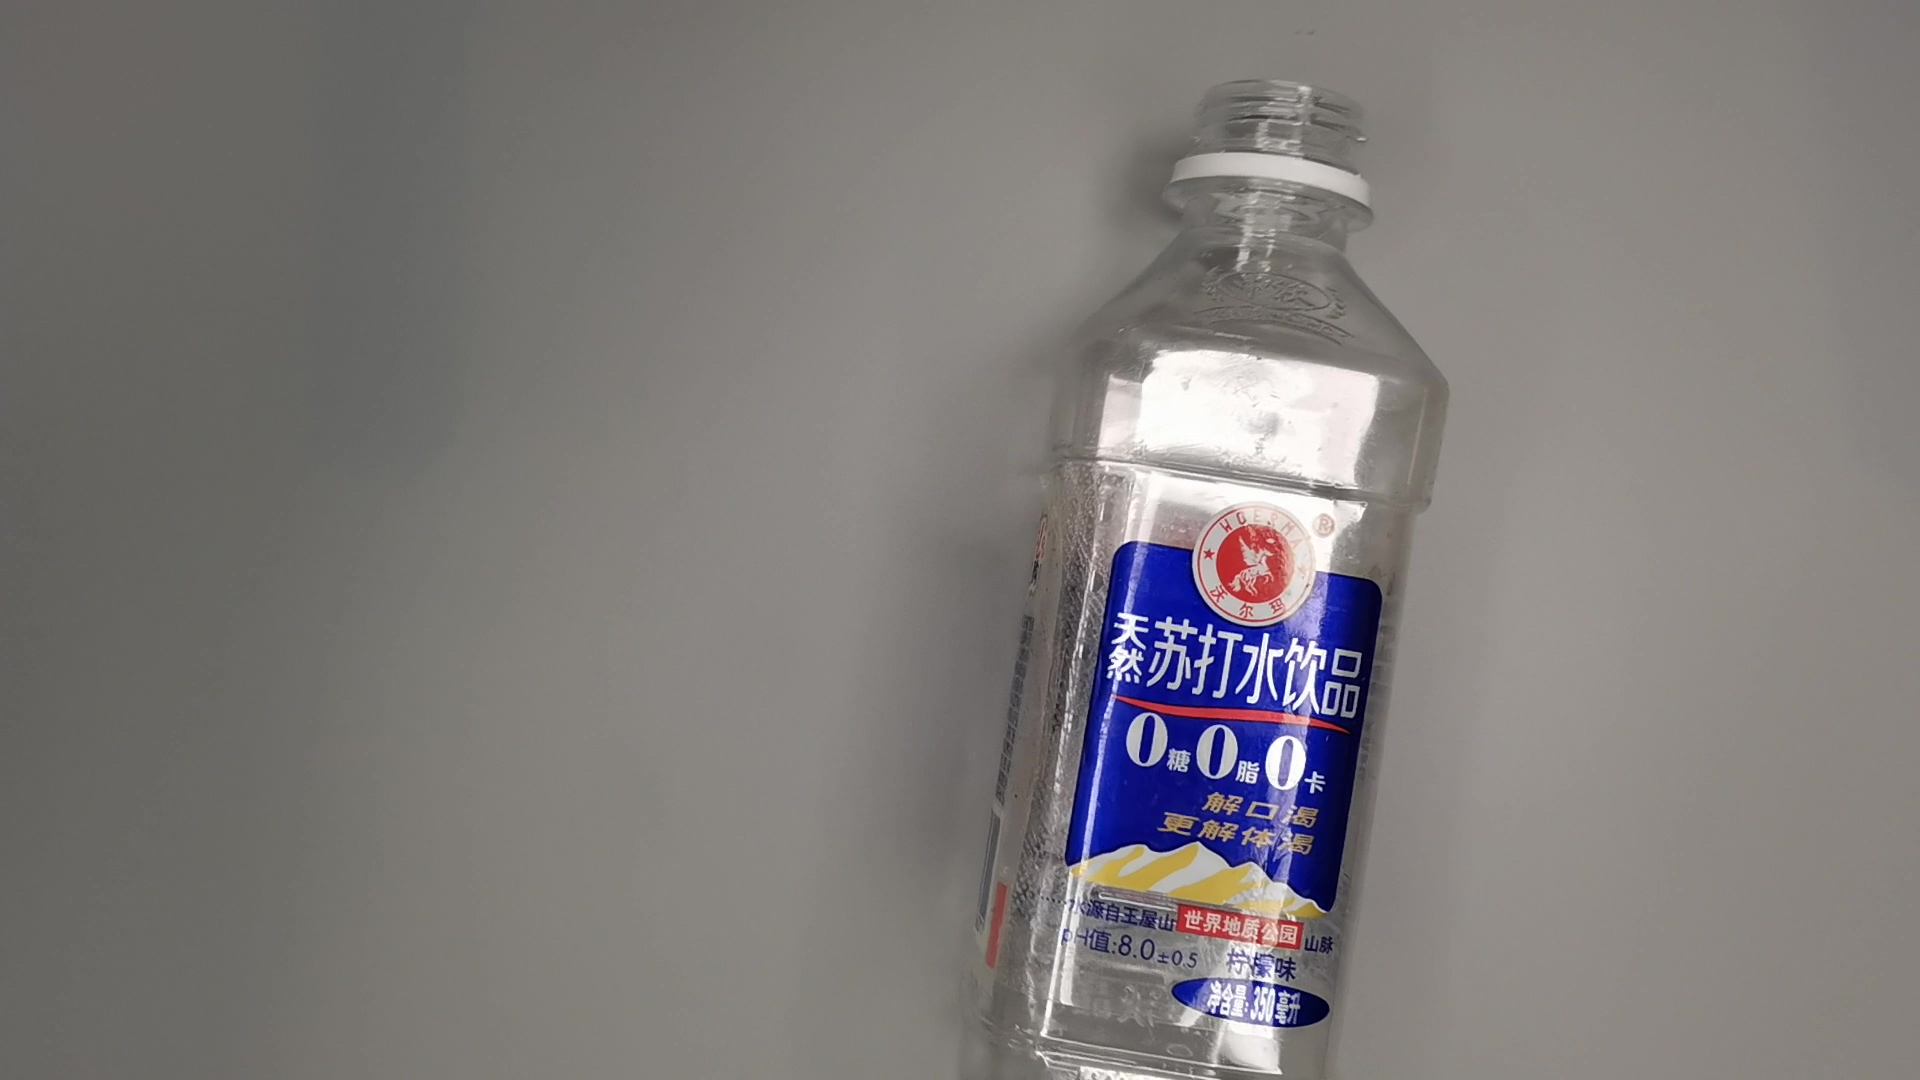bottle: (940, 67, 1451, 1080)
